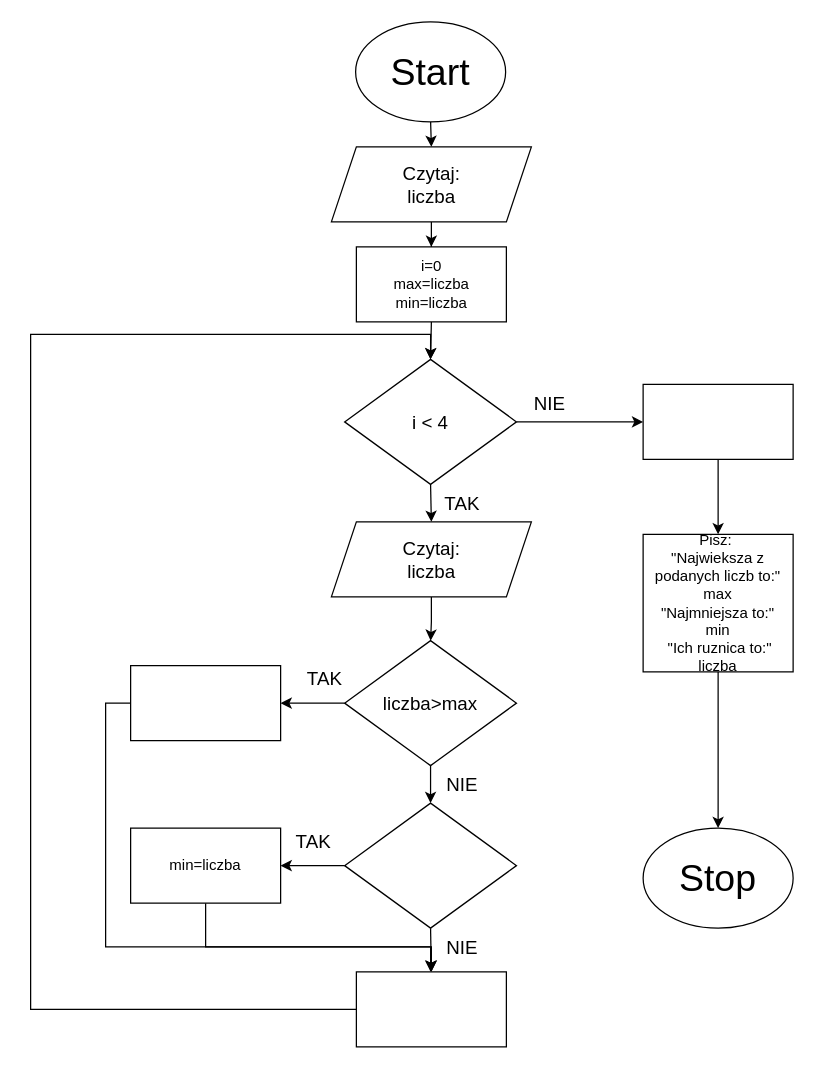
Image size: 815x1069. Some labels were removed from this diagram. The shapes that lost their labels are listed below. From the top down, each one's centre as x and y in pixels, then its label:
the point at 717,421: liczba=max-min
the point at 205,702: max=liczba
the point at 429,865: liczba<min
the point at 430,1009: i++
